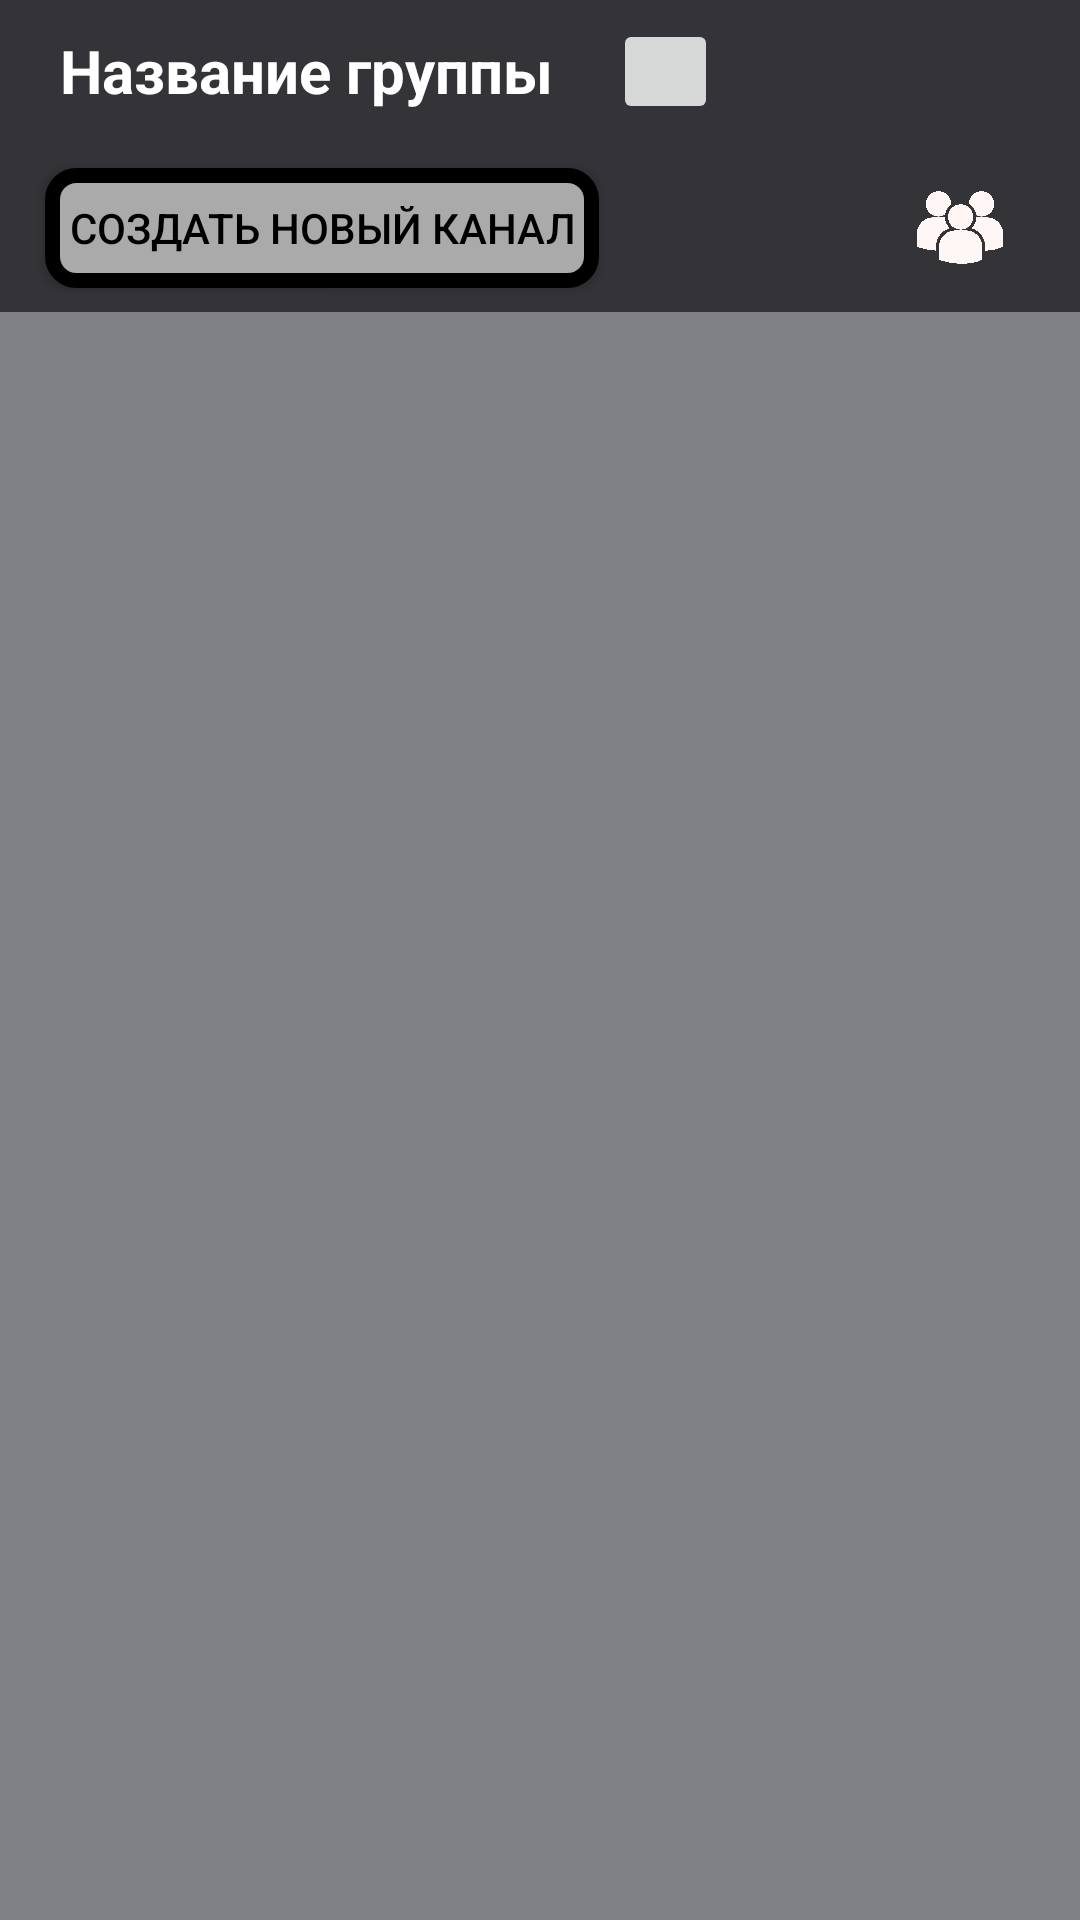

Named icons in this screenshot (1080px x 1920px) and their bounding boxes, (x1,y1,x2,y2):
users: (917,191,1003,264)
